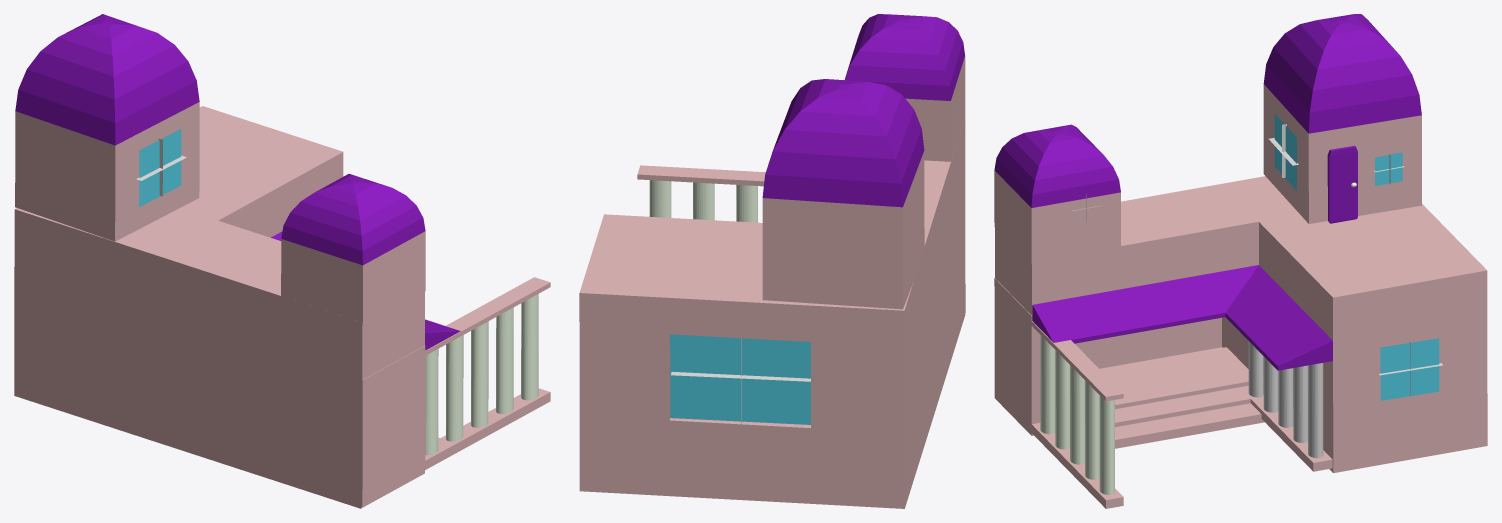
Rendered from Extracteur vigne.fbx.
3 renders of one model, left to right at view 1: azimuth 30°, elevation 25°; view 2: azimuth 150°, elevation 25°; view 3: azimuth 270°, elevation 25°, orthographic. The views are drawn at different scales.
Visible parts, largest first — view 1: Collection 5.014|HouseMain.001|Dupli|18, Collection 5.014|Plane.001|Dupli|17, Collection 5.014|Coupole.002|Dupli|40, Collection 5.014|Coupole.003|Dupli|41, Collection 5.014|Cube.031|Dupli|38, Collection 5.014|Cube.006|Dupli|39, Collection 5.014|Cube.039|Dupli|37, Collection 5.014|window z.009|Dupli|3, Collection 5.014|Cube.036|Dupli|34, Collection 5.014|Cylinder.019|Dupli|27, Collection 5.014|Cylinder.020|Dupli|28, Collection 5.014|Cylinder.017|Dupli|25 (+3 smaller); view 2: Collection 5.014|HouseMain.001|Dupli|18, Collection 5.014|Coupole.002|Dupli|40, Collection 5.014|window z.007|Dupli|1, Collection 5.014|Coupole.003|Dupli|41, Collection 5.014|Plane.001|Dupli|17, Collection 5.014|Cube.036|Dupli|34, Collection 5.014|Cube.031|Dupli|38, Collection 5.014|Cylinder.017|Dupli|25, Collection 5.014|Cylinder.018|Dupli|26, Collection 5.014|Cylinder.019|Dupli|27, Collection 5.014|window x.009|Dupli|14; view 3: Collection 5.014|HouseMain.001|Dupli|18, Collection 5.014|Coupole.002|Dupli|40, Collection 5.014|Cube.031|Dupli|38, Collection 5.014|Coupole.003|Dupli|41, Collection 5.014|Cube.038|Dupli|36, Collection 5.014|Cube.001|Dupli|29, Collection 5.014|Cube.033|Dupli|31, Collection 5.014|Cube.006|Dupli|39, Collection 5.014|Plane.001|Dupli|17, Collection 5.014|Cube.032|Dupli|30, Collection 5.014|window z.006|Dupli|, Collection 5.014|Cube.034|Dupli|32 (+16 smaller).
Boxes of the visible parts, left/top/right/bottom form: Collection 5.014|HouseMain.001|Dupli|18: left=14, top=106, right=343, bottom=441; Collection 5.014|Plane.001|Dupli|17: left=155, top=255, right=361, bottom=508; Collection 5.014|Coupole.002|Dupli|40: left=15, top=14, right=199, bottom=241; Collection 5.014|Coupole.003|Dupli|41: left=281, top=174, right=425, bottom=325; Collection 5.014|Cube.031|Dupli|38: left=151, top=220, right=424, bottom=387; Collection 5.014|Cube.006|Dupli|39: left=361, top=346, right=425, bottom=507; Collection 5.014|Cube.039|Dupli|37: left=375, top=388, right=550, bottom=497; Collection 5.014|window z.009|Dupli|3: left=139, top=129, right=181, bottom=207; Collection 5.014|Cube.036|Dupli|34: left=375, top=277, right=550, bottom=382; Collection 5.014|Cylinder.019|Dupli|27: left=471, top=321, right=488, bottom=427; Collection 5.014|Cylinder.020|Dupli|28: left=446, top=335, right=463, bottom=441; Collection 5.014|Cylinder.017|Dupli|25: left=521, top=294, right=538, bottom=400; Collection 5.014|HouseMain.001|Dupli|18: left=579, top=214, right=929, bottom=508; Collection 5.014|Coupole.002|Dupli|40: left=762, top=79, right=924, bottom=309; Collection 5.014|window z.007|Dupli|1: left=670, top=334, right=810, bottom=424; Collection 5.014|Coupole.003|Dupli|41: left=844, top=14, right=965, bottom=161; Collection 5.014|Plane.001|Dupli|17: left=929, top=121, right=965, bottom=429; Collection 5.014|Cube.036|Dupli|34: left=637, top=165, right=765, bottom=186; Collection 5.014|Cube.031|Dupli|38: left=924, top=117, right=965, bottom=234; Collection 5.014|Cylinder.017|Dupli|25: left=649, top=180, right=671, bottom=217; Collection 5.014|Cylinder.018|Dupli|26: left=693, top=182, right=714, bottom=220; Collection 5.014|Cylinder.019|Dupli|27: left=736, top=185, right=757, bottom=222; Collection 5.014|window x.009|Dupli|14: left=671, top=371, right=810, bottom=381; Collection 5.014|HouseMain.001|Dupli|18: left=1222, top=176, right=1487, bottom=473; Collection 5.014|Coupole.002|Dupli|40: left=1263, top=14, right=1421, bottom=223; Collection 5.014|Cube.031|Dupli|38: left=995, top=183, right=1263, bottom=315; Collection 5.014|Coupole.003|Dupli|41: left=994, top=124, right=1120, bottom=264; Collection 5.014|Cube.038|Dupli|36: left=1032, top=265, right=1258, bottom=343; Collection 5.014|Cube.001|Dupli|29: left=1225, top=265, right=1332, bottom=370; Collection 5.014|Cube.033|Dupli|31: left=1100, top=347, right=1248, bottom=409; Collection 5.014|Cube.006|Dupli|39: left=994, top=278, right=1040, bottom=435; Collection 5.014|Plane.001|Dupli|17: left=1075, top=317, right=1221, bottom=368; Collection 5.014|Cube.032|Dupli|30: left=1115, top=403, right=1264, bottom=448; Collection 5.014|window z.006|Dupli|: left=1380, top=338, right=1439, bottom=400; Collection 5.014|Cube.034|Dupli|32: left=1115, top=385, right=1263, bottom=426.
Bounding box in the file's own units: 441 × 393 × 509.
